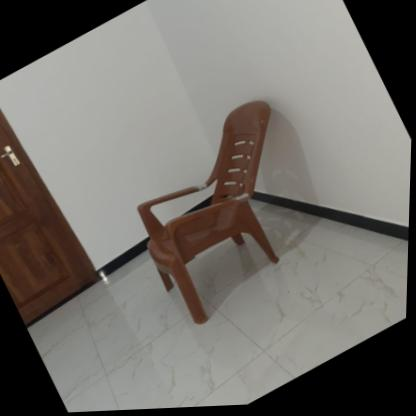Ceramic floor: (29, 204, 410, 413)
Chair: (107, 91, 345, 338)
